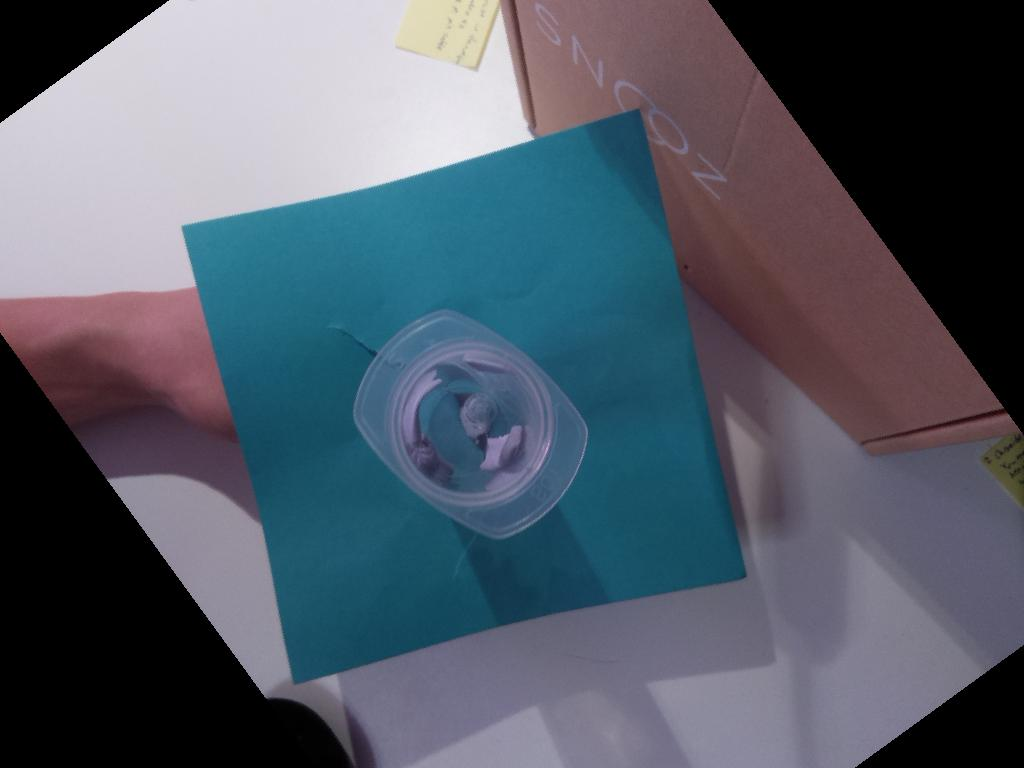dirty: (355, 308, 587, 539)
